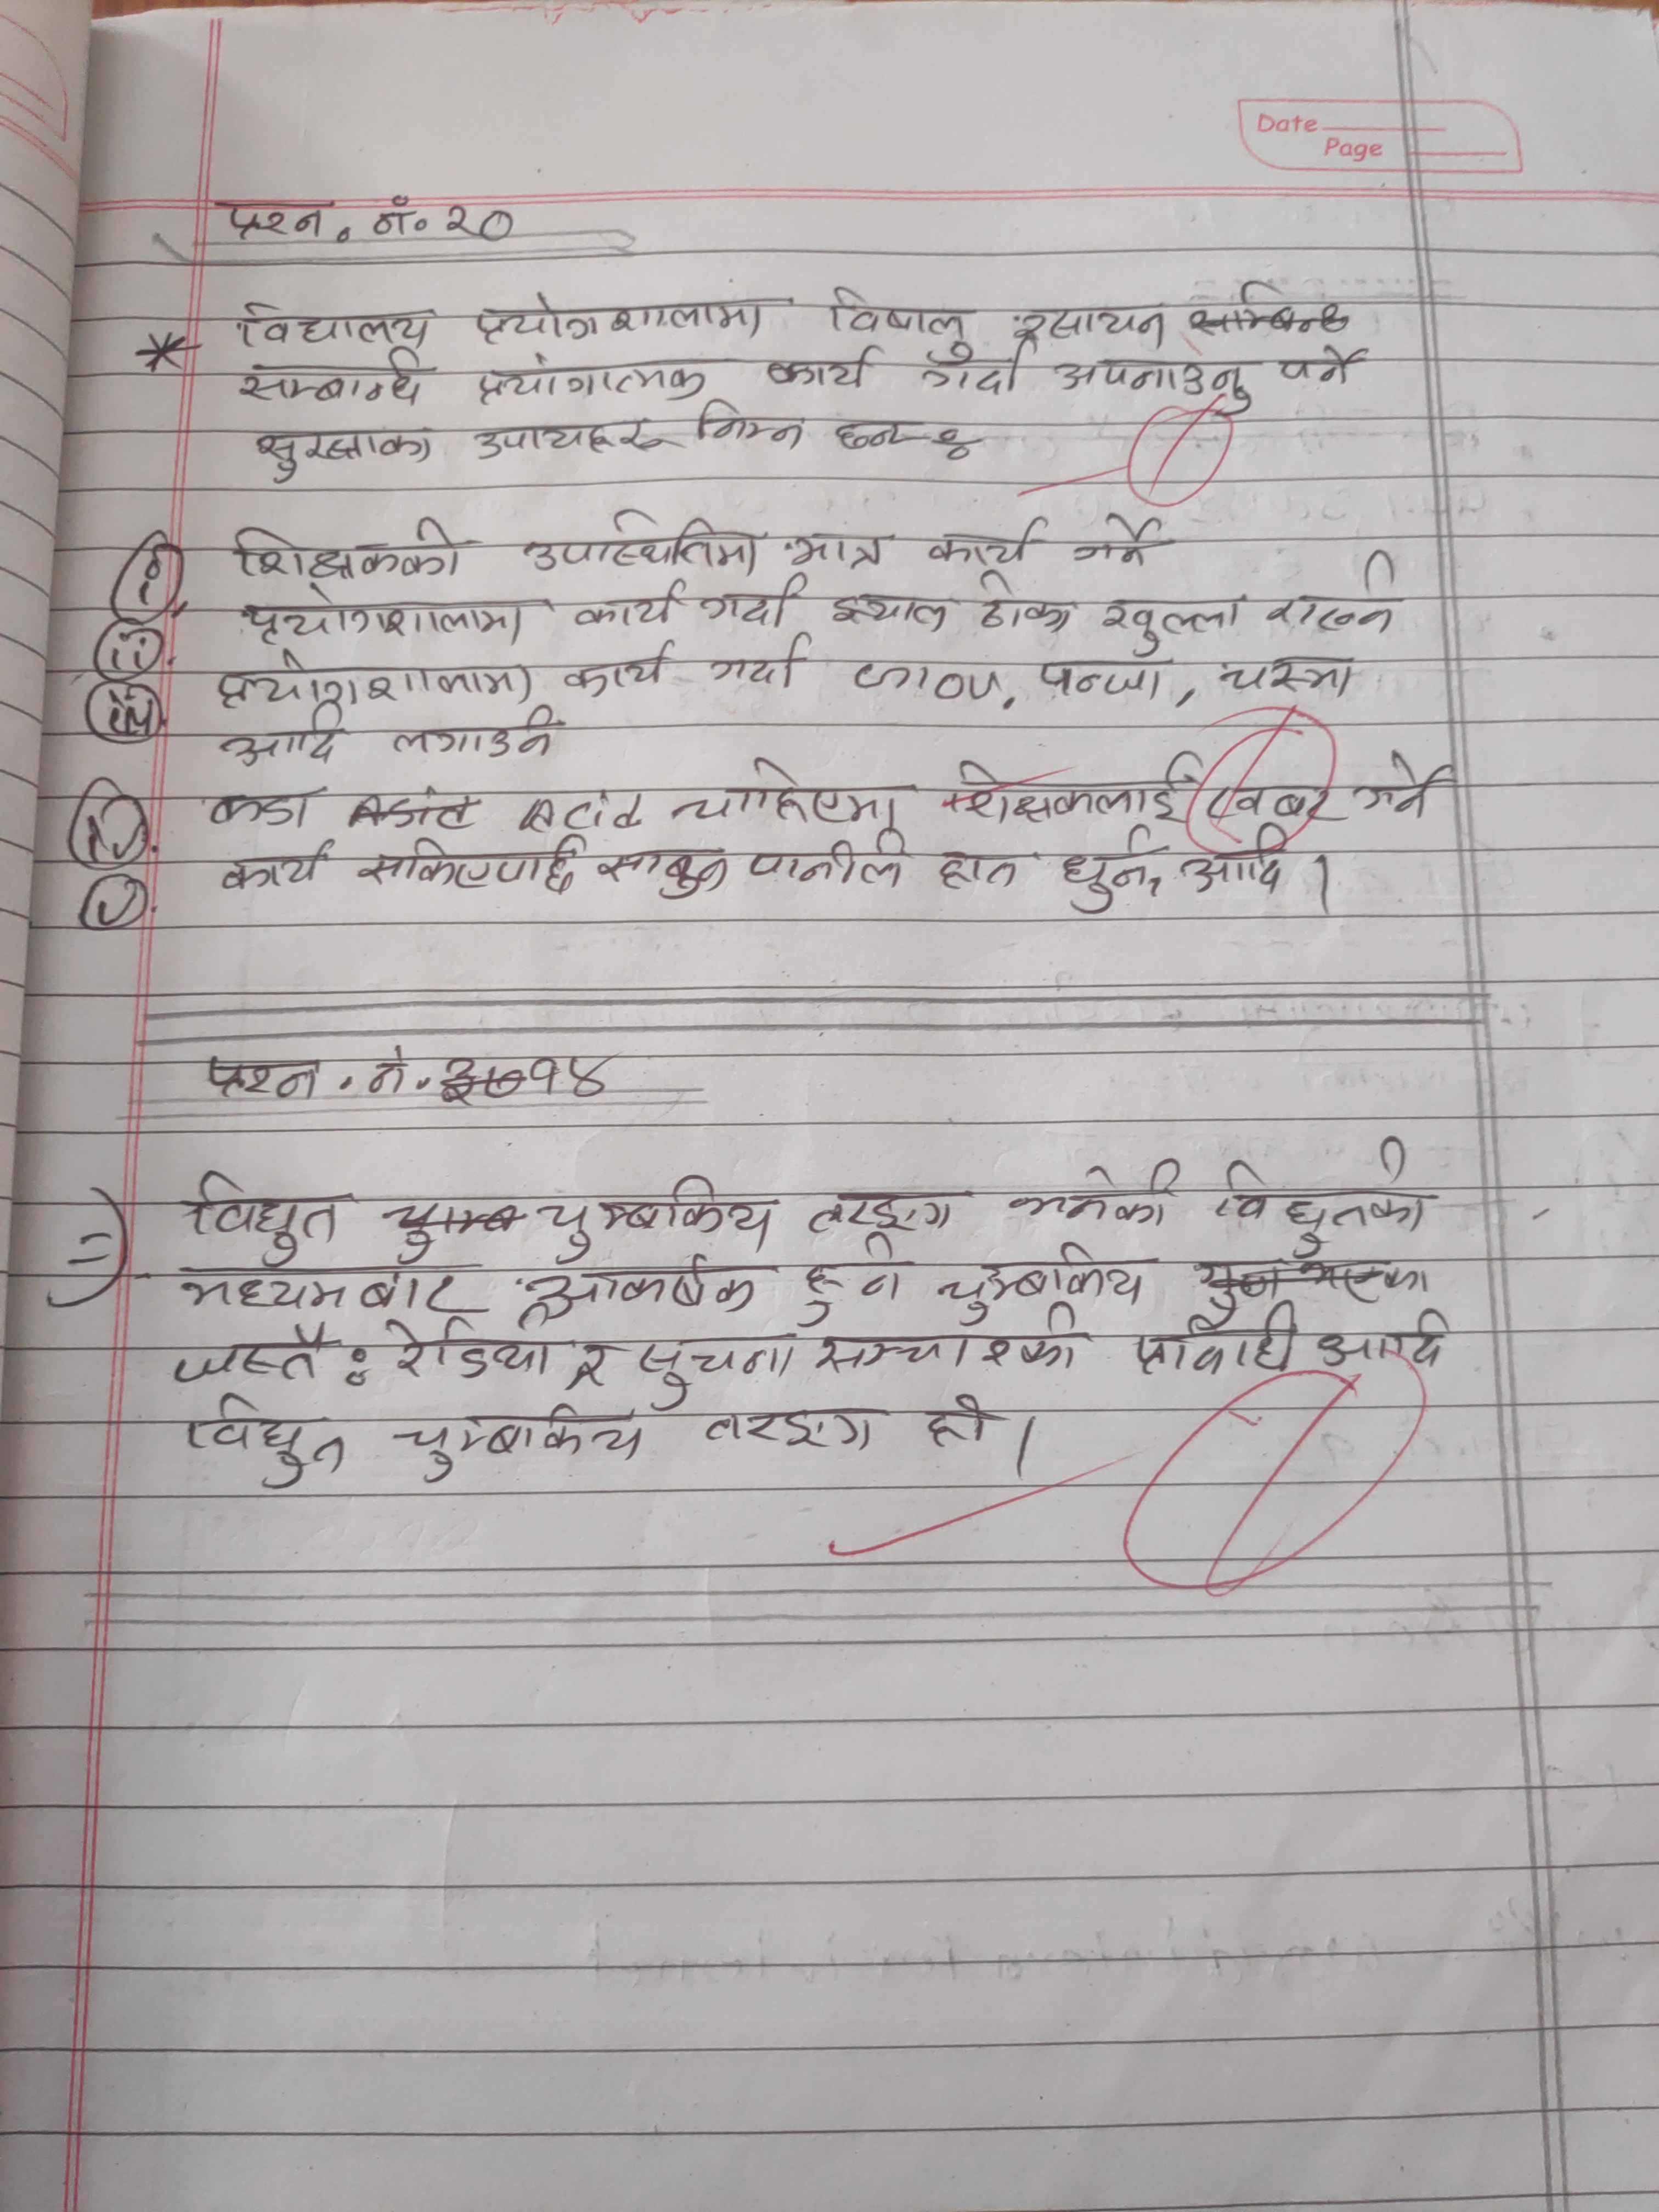text: (1208, 1134, 1439, 1254), (535, 1167, 784, 1261), (389, 1402, 655, 1487), (816, 1298, 1087, 1379), (666, 752, 903, 838), (239, 582, 533, 650), (206, 650, 538, 709), (945, 754, 1199, 831), (164, 1261, 479, 1317), (221, 510, 465, 580), (183, 1392, 357, 1489), (467, 293, 781, 347), (941, 1247, 1161, 1322), (190, 1169, 350, 1270), (519, 505, 762, 571), (354, 834, 587, 902), (1051, 350, 1258, 418), (1004, 1158, 1188, 1231), (516, 1258, 765, 1310), (247, 420, 439, 486), (467, 404, 669, 467), (232, 352, 427, 416), (1263, 545, 1405, 634), (474, 352, 718, 402), (830, 280, 974, 364), (378, 1312, 551, 1381), (169, 1322, 335, 1393), (1129, 1306, 1307, 1372), (232, 298, 437, 354), (638, 1332, 798, 1404), (1098, 589, 1253, 660), (798, 1235, 911, 1329), (1317, 1305, 1459, 1374), (1054, 820, 1154, 916), (702, 1404, 878, 1458), (385, 707, 563, 759), (748, 834, 908, 890), (1175, 829, 1295, 899), (211, 705, 350, 765), (805, 1186, 974, 1235), (1028, 650, 1168, 707), (1352, 745, 1453, 822), (598, 845, 735, 900), (1004, 301, 1171, 347), (704, 631, 809, 700), (692, 395, 807, 458), (1223, 651, 1361, 704), (563, 639, 676, 700), (974, 575, 1077, 641), (927, 514, 1049, 570), (202, 1054, 326, 1106), (828, 589, 951, 639), (765, 347, 887, 397), (1206, 780, 1337, 827), (216, 838, 329, 892), (918, 341, 1025, 399), (572, 582, 695, 631), (697, 573, 802, 631), (1072, 510, 1168, 570), (209, 782, 321, 833), (1272, 338, 1373, 390), (519, 1050, 617, 1103), (924, 1388, 1002, 1449), (221, 200, 329, 244), (931, 845, 1023, 895), (786, 529, 892, 571), (831, 406, 910, 456), (366, 197, 418, 251), (570, 1338, 617, 1393), (366, 1045, 410, 1101)
